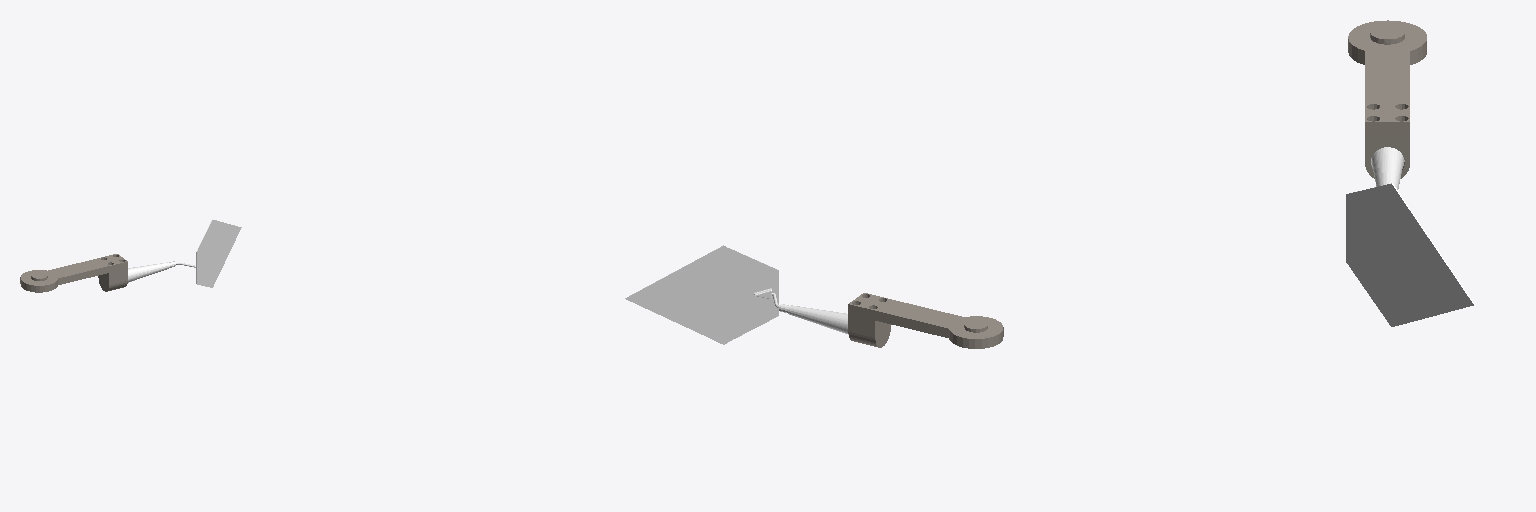
The robot description file, URDF, robot "shovel_rotate":
<?xml version="1.0" encoding="utf-8"?>
<!--Merged from base_with_ur10 and shovel_with_3frame. base_link_3 is fixed to shovel_base_link.-->
<robot name="shovel_rotate">
  <link name="base_link">
    <inertial>
      <origin xyz="0.056828169263075 -4.14000490374386E-18 -0.0117288385505833" rpy="0 0 0" />
      <mass value="1.01805130240541" />
      <inertia ixx="0.000223500567511372" ixy="-5.03669428440763E-21" ixz="1.56877722524815E-05" iyy="0.00362147977855399" iyz="2.48425009701901E-21" izz="0.00380745681488709" />
    </inertial>
    <visual>
      <origin xyz="0 0 0" rpy="0 0 0" />
      <geometry>
        <mesh filename="package://shovel_rotate/meshes/base_link.STL" />
      </geometry>
      <material name="">
        <color rgba="0.650980392156863 0.619607843137255 0.588235294117647 1" />
      </material>
    </visual>
    <collision>
      <origin xyz="0 0 0" rpy="0 0 0" />
      <geometry>
        <mesh filename="package://shovel_rotate/meshes/base_link.STL" />
      </geometry>
    </collision>
  </link>
  <link name="base_link_2">
    <inertial>
      <origin xyz="-0.00158445661415119 6.78094517637425E-19 0.018316845778373" rpy="0 0 0" />
      <mass value="0.0390355310553479" />
      <inertia ixx="1.34883319076031E-05" ixy="3.10257279915433E-22" ixz="4.13353792795213E-07" iyy="1.28963362932004E-05" iyz="1.25797608931366E-21" izz="1.19741642621157E-05" />
    </inertial>
    <visual>
      <origin xyz="0 0 0" rpy="0 0 0" />
      <geometry>
        <mesh filename="package://shovel_rotate/meshes/base_link_2.STL" />
      </geometry>
      <material name="">
        <color rgba="0.647058823529412 0.619607843137255 0.588235294117647 1" />
      </material>
    </visual>
    <collision>
      <origin xyz="0 0 0" rpy="0 0 0" />
      <geometry>
        <mesh filename="package://shovel_rotate/meshes/base_link_2.STL" />
      </geometry>
    </collision>
  </link>
  <joint name="base_rotate" type="fixed">
    <origin xyz="0.15744562646538 0 -0.019" rpy="3.14159265358979 0 0" />
    <parent link="base_link" />
    <child link="base_link_2" />
    <axis xyz="0 0 0" />
  </joint>
  <link name="base_link_3">
    <inertial>
      <origin xyz="1.73472347597681E-18 6.93889390390723E-18 -0.000499999999999973" rpy="0 0 0" />
      <mass value="1.25663706143592E-05" />
      <inertia ixx="1.36135681655558E-11" ixy="0" ixz="-2.42841104008608E-44" iyy="1.36135681655558E-11" iyz="3.74283737707913E-44" izz="2.51327412287184E-11" />
    </inertial>
    <visual>
      <origin xyz="0 0 0" rpy="0 0 0" />
      <geometry>
        <mesh filename="package://shovel_rotate/meshes/base_link_3.STL" />
      </geometry>
      <material name="">
        <color rgba="1 1 1 1" />
      </material>
    </visual>
    <collision>
      <origin xyz="0 0 0" rpy="0 0 0" />
      <geometry>
        <mesh filename="package://shovel_rotate/meshes/base_link_3.STL" />
      </geometry>
    </collision>
  </link>
  <joint name="xuanzhuan_jizuo" type="fixed">
    <origin xyz="-0.014 0 0.025" rpy="-1.5707963267949 0 -1.5707963267949" />
    <parent link="base_link_2" />
    <child link="base_link_3" />
    <axis xyz="0 0 0" />
  </joint>
  <joint name="base_tail_to_shovel_base" type="revolute">
    <origin xyz="0 0 0" rpy="3.14159265358979 0 0" />
    <parent link="base_link_3" />
    <child link="shovel_base_link" />
    <axis xyz="0 0 1" />
    <limit lower="-3.14159265358979" upper="3.14159265358979" effort="10" velocity="1" />
  </joint>
  <link name="shovel_base_link">
    <inertial>
      <origin xyz="0.0016245 -1.3997E-06 -0.092921" rpy="0 0 0" />
      <mass value="0.5793" />
      <inertia ixx="0.0043222" ixy="1.5225E-08" ixz="0.00026644" iyy="0.0043066" iyz="2.8511E-08" izz="0.00024905" />
    </inertial>
    <visual>
      <origin xyz="0 0 0" rpy="0 0 0" />
      <geometry>
        <mesh filename="package://shovel_rotate/meshes/shovel_base_link.STL" />
      </geometry>
      <material name="">
        <color rgba="1 1 1 1" />
      </material>
    </visual>
    <collision>
      <origin xyz="0 0 0" rpy="0 0 0" />
      <geometry>
        <mesh filename="package://shovel_rotate/meshes/shovel_base_link.STL" />
      </geometry>
    </collision>
  </link>
  <link name="shovel_forward_link">
    <inertial>
      <origin xyz="6.9389E-18 -0.00029192 -5E-05" rpy="0 0 0" />
      <mass value="1.0569E-08" />
      <inertia ixx="1.2139E-16" ixy="5.5475E-30" ixz="-1.6941E-30" iyy="1.1144E-16" iyz="8.659E-31" izz="2.1522E-16" />
    </inertial>
    <visual>
      <origin xyz="0 0 0" rpy="0 0 0" />
      <geometry>
        <mesh filename="package://shovel_rotate/meshes/shovel_forward_link.STL" />
      </geometry>
      <material name="">
        <color rgba="1 1 1 1" />
      </material>
    </visual>
    <collision>
      <origin xyz="0 0 0" rpy="0 0 0" />
      <geometry>
        <mesh filename="package://shovel_rotate/meshes/shovel_forward_link.STL" />
      </geometry>
    </collision>
  </link>
  <joint name="shovel_forward_frame" type="fixed">
    <origin xyz="0.077109 0 -0.33132" rpy="-0.95993 -1.04E-05 -1.5708" />
    <parent link="shovel_base_link" />
    <child link="shovel_forward_link" />
    <axis xyz="0 0 0" />
  </joint>
  <link name="shovel_left_link">
    <inertial>
      <origin xyz="0.0047418 -6.6562E-05 -0.00025" rpy="0 0 0" />
      <mass value="4.7079E-05" />
      <inertia ixx="1.3667E-09" ixy="-9.8037E-12" ixz="2.1476E-25" iyy="1.3427E-10" iyz="-6.527E-25" izz="1.499E-09" />
    </inertial>
    <visual>
      <origin xyz="0 0 0" rpy="0 0 0" />
      <geometry>
        <mesh filename="package://shovel_rotate/meshes/shovel_left_link.STL" />
      </geometry>
      <material name="">
        <color rgba="1 1 1 1" />
      </material>
    </visual>
    <collision>
      <origin xyz="0 0 0" rpy="0 0 0" />
      <geometry>
        <mesh filename="package://shovel_rotate/meshes/shovel_left_link.STL" />
      </geometry>
    </collision>
  </link>
  <joint name="shovel_left_frame" type="fixed">
    <origin xyz="0.0046013 0.07 -0.22707" rpy="-0.95993 0 -1.5708" />
    <parent link="shovel_base_link" />
    <child link="shovel_left_link" />
    <axis xyz="0 0 0" />
  </joint>
  <link name="shovel_right_link">
    <inertial>
      <origin xyz="-0.0047576 -3.7843E-05 -0.00025" rpy="0 0 0" />
      <mass value="4.7079E-05" />
      <inertia ixx="1.3667E-09" ixy="9.8037E-12" ixz="-1.1391E-25" iyy="1.3427E-10" iyz="3.3087E-24" izz="1.499E-09" />
    </inertial>
    <visual>
      <origin xyz="0 0 0" rpy="0 0 0" />
      <geometry>
        <mesh filename="package://shovel_rotate/meshes/shovel_right_link.STL" />
      </geometry>
      <material name="">
        <color rgba="1 1 1 1" />
      </material>
    </visual>
    <collision>
      <origin xyz="0 0 0" rpy="0 0 0" />
      <geometry>
        <mesh filename="package://shovel_rotate/meshes/shovel_right_link.STL" />
      </geometry>
    </collision>
  </link>
  <joint name="shovel_right_frame" type="fixed">
    <origin xyz="0.0046277 -0.069975 -0.22711" rpy="-0.95993 0 -1.5708" />
    <parent link="shovel_base_link" />
    <child link="shovel_right_link" />
    <axis xyz="0 0 0" />
  </joint>
  <link name="shovel_surface_center_link">
    <inertial>
      <origin xyz="0 0 0" rpy="0 0 0" />
      <mass value="1e-08" />
      <inertia ixx="1e-12" ixy="0" ixz="0" iyy="1e-12" iyz="0" izz="1e-12" />
    </inertial>
  </link>
  <joint name="shovel_surface_center_frame" type="fixed">
    <origin xyz="0.0287793333333 0.00000833333333 -0.261833333333" rpy="-0.95993 0 -1.5708" />
    <parent link="shovel_base_link" />
    <child link="shovel_surface_center_link" />
    <axis xyz="0 0 0" />
  </joint>
</robot>

--- What the picture shows (computed from the rendered views, not written in the file) ---
Views: 3 orthographic renders of the robot side by side, from view 1: azimuth 30°, elevation 25°; view 2: azimuth 150°, elevation 25°; view 3: azimuth 270°, elevation 25°.
Robot: shovel_rotate — 8 links, 7 joints (1 revolute, 6 fixed); root link base_link; default pose: every joint at zero.
Links seen in each view (by area): view 1: shovel_base_link, base_link; view 2: shovel_base_link, base_link, base_link_2; view 3: shovel_base_link, base_link, base_link_2.
Link boxes in pixels (x1,y1,x2,y2): shovel_base_link: (128,219,241,287); base_link: (20,254,127,292); shovel_base_link: (625,245,848,339); base_link: (848,293,1003,348); base_link_2: (848,314,890,347); shovel_base_link: (1346,147,1474,326); base_link: (1348,20,1426,136); base_link_2: (1365,137,1409,178).
Bounding box of the posed robot: 0.8447 × 0.3439 × 0.14 m (x, y, z).
7 mesh visuals loaded from 7 distinct referenced files (7 binary STL).
